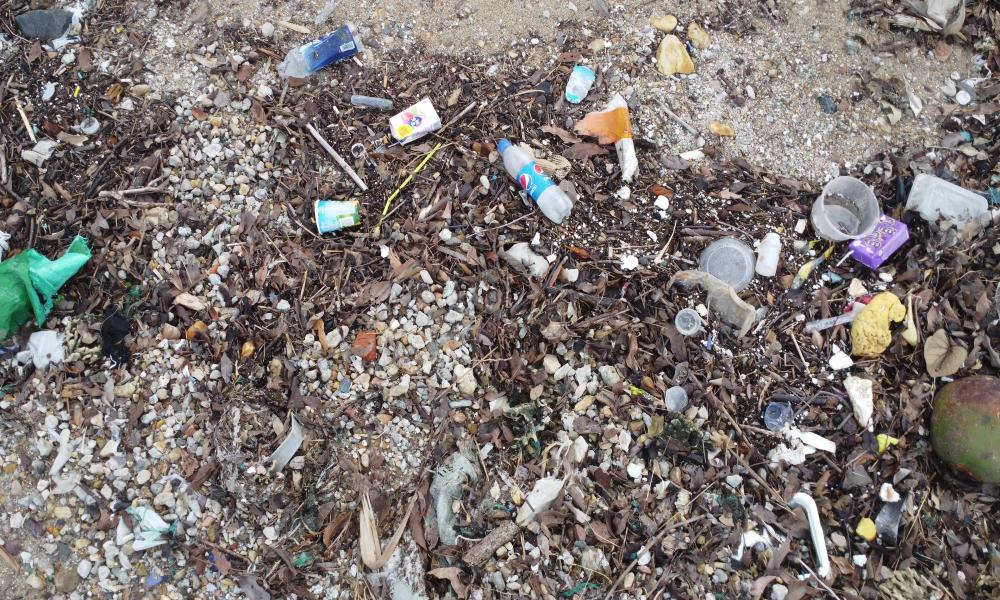carton: (850, 214, 910, 267), (391, 92, 438, 136), (311, 192, 357, 233)
plastic bottle: (492, 139, 573, 223), (277, 21, 355, 71)
